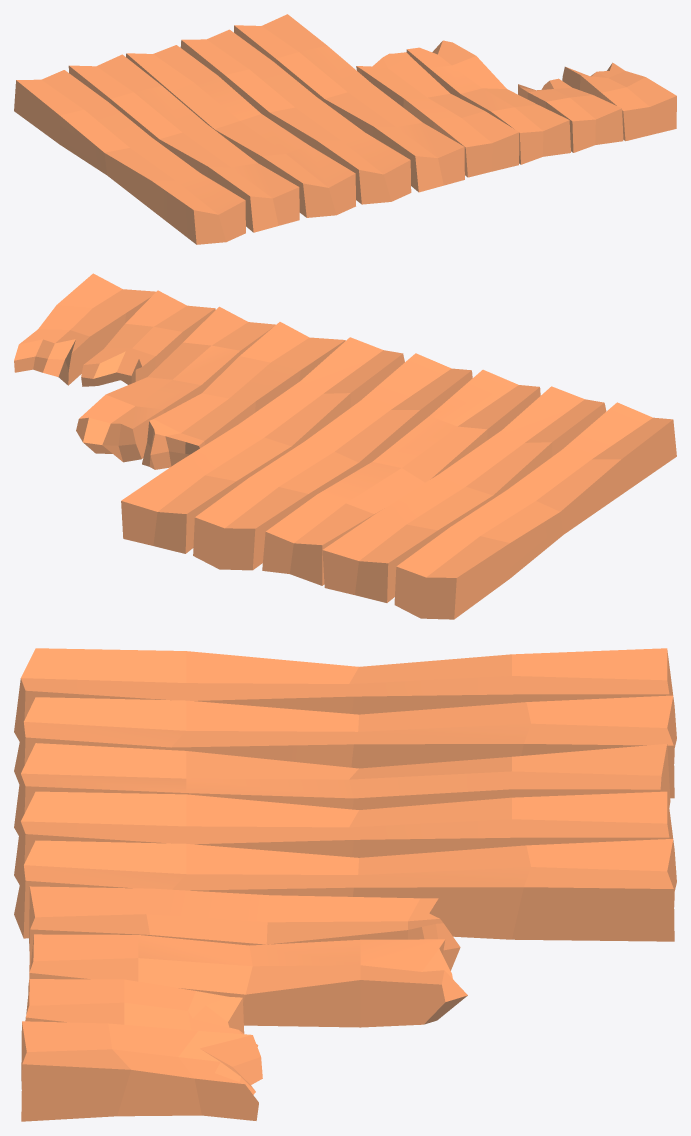
The model's file is PlatformM_Wood4.fbx.
3 views of the same model, one above another, from view 1: azimuth 30°, elevation 25°; view 2: azimuth 150°, elevation 25°; view 3: azimuth 270°, elevation 25° (orthographic). The views are drawn at different scales.
Visible parts, largest first — view 1: WoodPlank4_1, WoodPlank4, WoodPlank5_1, WoodPlank5, WoodPlank6, WoodPlank8, WoodPlank7, WoodPlank11, WoodPlank12; view 2: WoodPlank4_1, WoodPlank4, WoodPlank5_1, WoodPlank5, WoodPlank6, WoodPlank8, WoodPlank7, WoodPlank11, WoodPlank12; view 3: WoodPlank5, WoodPlank5_1, WoodPlank4_1, WoodPlank4, WoodPlank6, WoodPlank7, WoodPlank11, WoodPlank8, WoodPlank12.
Part boxes in pixels (x1=…): WoodPlank4_1: x1=14, y1=70, x2=245, y2=244; WoodPlank4: x1=180, y1=29, x2=411, y2=204; WoodPlank5_1: x1=68, y1=54, x2=299, y2=232; WoodPlank5: x1=234, y1=14, x2=464, y2=192; WoodPlank6: x1=126, y1=45, x2=355, y2=217; WoodPlank8: x1=356, y1=52, x2=519, y2=177; WoodPlank7: x1=406, y1=40, x2=570, y2=164; WoodPlank11: x1=562, y1=62, x2=676, y2=141; WoodPlank12: x1=518, y1=78, x2=623, y2=152; WoodPlank4_1: x1=394, y1=402, x2=676, y2=619; WoodPlank4: x1=193, y1=353, x2=472, y2=570; WoodPlank5_1: x1=322, y1=386, x2=606, y2=602; WoodPlank5: x1=121, y1=337, x2=404, y2=553; WoodPlank6: x1=262, y1=369, x2=540, y2=585; WoodPlank8: x1=142, y1=322, x2=345, y2=469; WoodPlank7: x1=76, y1=306, x2=275, y2=462; WoodPlank11: x1=14, y1=273, x2=155, y2=385; WoodPlank12: x1=81, y1=290, x2=215, y2=386; WoodPlank5: x1=14, y1=839, x2=674, y2=941; WoodPlank5_1: x1=14, y1=695, x2=674, y2=798; WoodPlank4_1: x1=14, y1=648, x2=676, y2=747; WoodPlank4: x1=14, y1=791, x2=676, y2=890; WoodPlank6: x1=14, y1=743, x2=670, y2=835; WoodPlank7: x1=28, y1=934, x2=467, y2=1027; WoodPlank11: x1=21, y1=1021, x2=262, y2=1121; WoodPlank8: x1=29, y1=886, x2=460, y2=972; WoodPlank12: x1=25, y1=979, x2=258, y2=1046.
Size of the model in its own units: 588 by 44.35 by 396.
